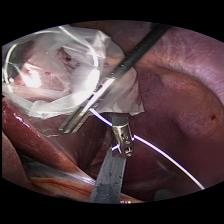Grasper: (46, 76, 114, 136), (110, 117, 132, 157)
Specimen Bag: (0, 23, 149, 121)
